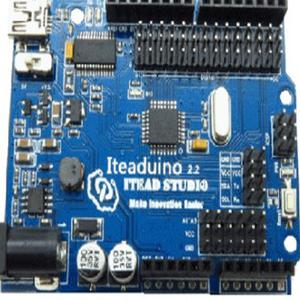duino: (2, 2, 295, 296)
